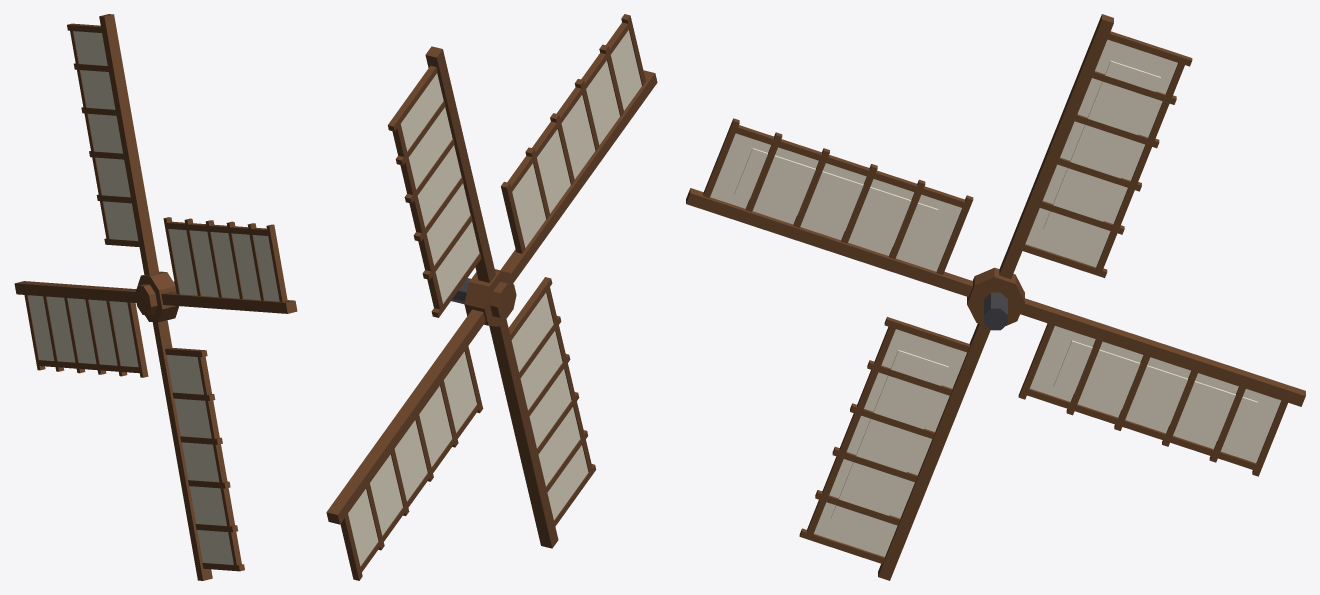
Rendered from w1_windmill.fbx.
The picture shows the model from 3 angles, left to right: view 1: azimuth 30°, elevation 25°; view 2: azimuth 150°, elevation 25°; view 3: azimuth 270°, elevation 25°; orthographic projection. The views are drawn at different scales.
Visible parts, largest first — view 1: WindmillSails.Wood, WindmillSails.Cloth; view 2: WindmillSails.Wood, WindmillSails.Cloth; view 3: WindmillSails.Cloth, WindmillSails.Wood, WindmillSails.Axle.
Boxes of the visible parts, x1,y1,x2,y2 form: WindmillSails.Wood: [14, 14, 297, 580]; WindmillSails.Cloth: [28, 31, 279, 564]; WindmillSails.Wood: [326, 14, 657, 580]; WindmillSails.Cloth: [348, 30, 641, 566]; WindmillSails.Cloth: [710, 39, 1281, 556]; WindmillSails.Wood: [686, 14, 1305, 580]; WindmillSails.Axle: [984, 292, 1007, 330].
Bounding box in the file's own units: 2.45 × 21.95 × 21.95.
